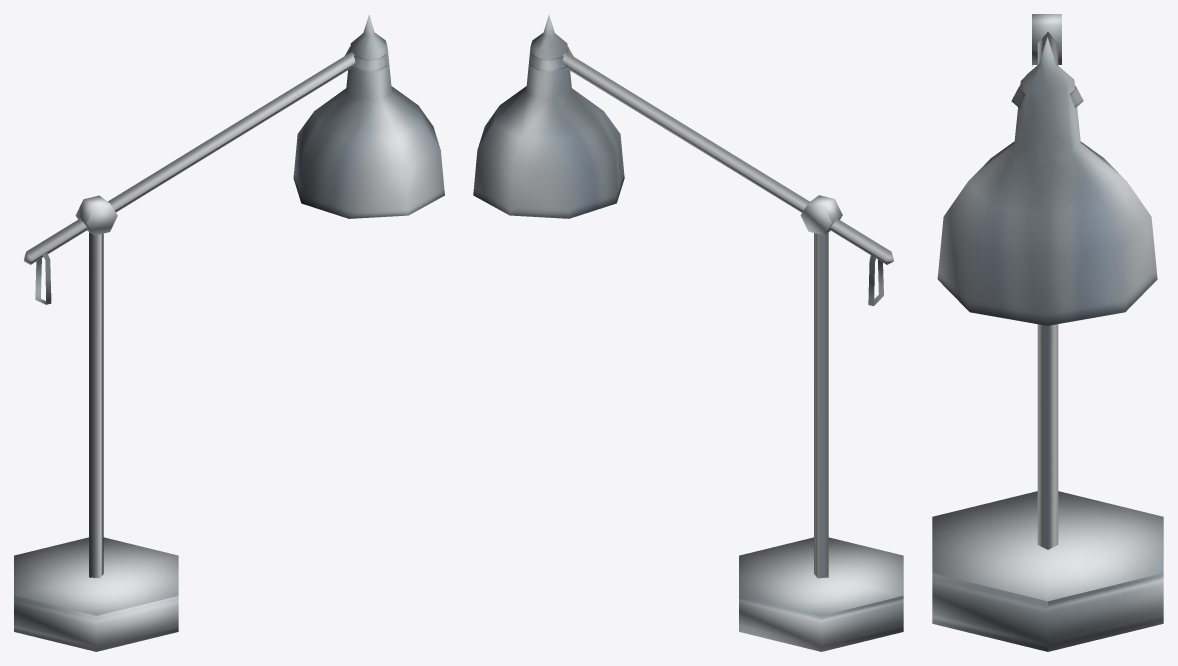
The model's file is TouKuiZheJia_01_taideng_01.FBX.
3 renders of one model, left to right at view 1: azimuth 30°, elevation 25°; view 2: azimuth 150°, elevation 25°; view 3: azimuth 270°, elevation 25°, orthographic. The views are drawn at different scales.
Visible parts, largest first — view 1: TouKuiZheJia_taideng_01; view 2: TouKuiZheJia_taideng_01; view 3: TouKuiZheJia_taideng_01.
Boxes of the visible parts, left/top/right/bottom form: TouKuiZheJia_taideng_01: left=14, top=14, right=444, bottom=651; TouKuiZheJia_taideng_01: left=473, top=14, right=903, bottom=651; TouKuiZheJia_taideng_01: left=932, top=14, right=1163, bottom=651.
Size of the model in its own units: 259 by 311 by 87.52.
